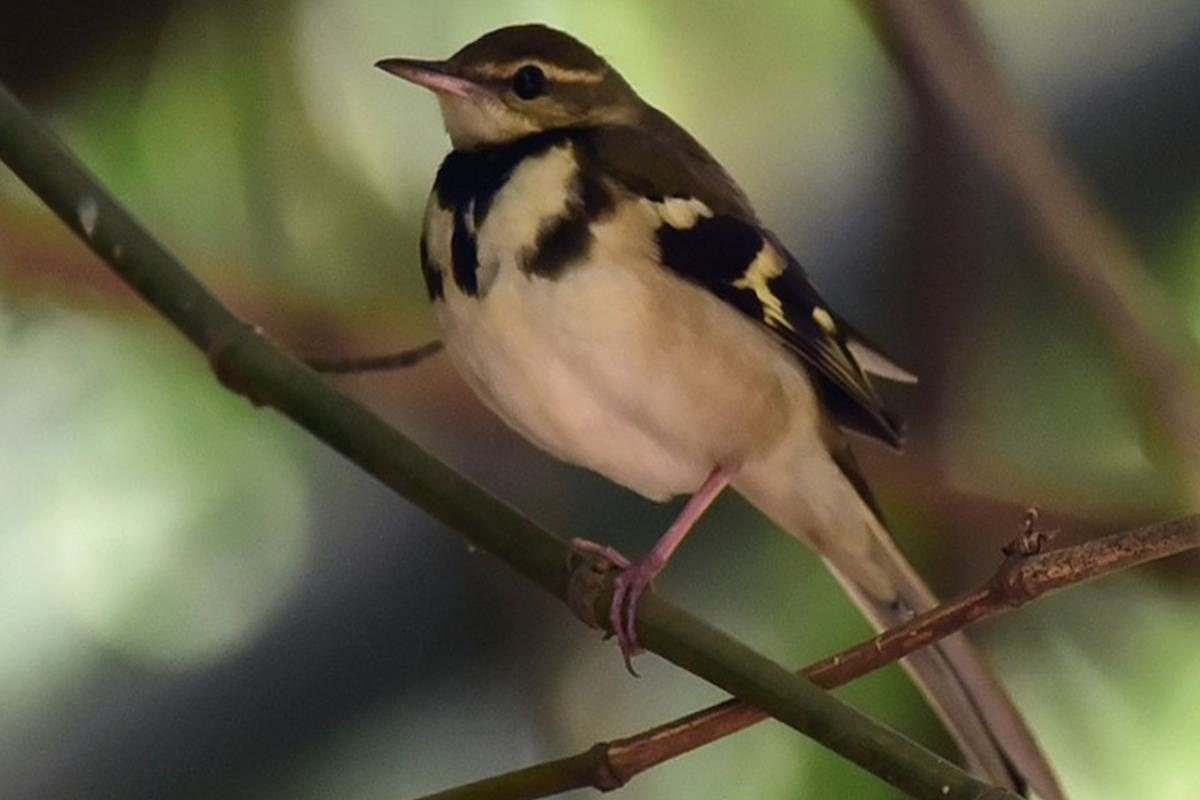wagtail: (405, 23, 927, 655)
